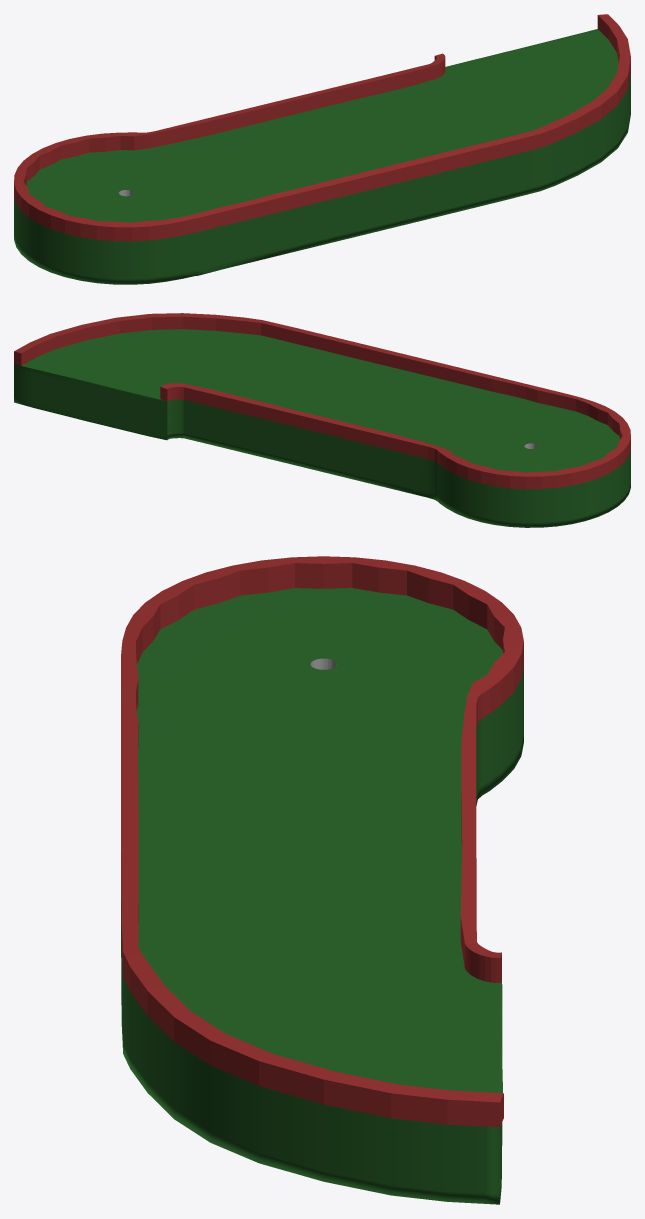
File: holeTwo.fbx
3 views of the same model, one above another, from view 1: azimuth 30°, elevation 25°; view 2: azimuth 150°, elevation 25°; view 3: azimuth 270°, elevation 25° (orthographic). The views are drawn at different scales.
Parts seen in each view (by area): view 1: holeTwo2; view 2: holeTwo2; view 3: holeTwo2.
Boxes of the visible parts, left/top/right/bottom form: holeTwo2: left=14, top=14, right=630, bottom=284; holeTwo2: left=14, top=313, right=630, bottom=527; holeTwo2: left=121, top=556, right=523, bottom=1204.
Size of the model in its own units: 14.55 by 1.31 by 4.53.
